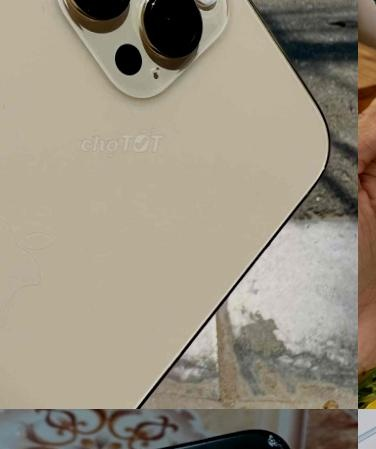physical_damage: (239, 425, 295, 449)
